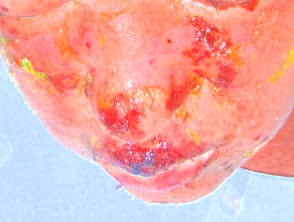SJS-TEN: (66, 3, 285, 222)
